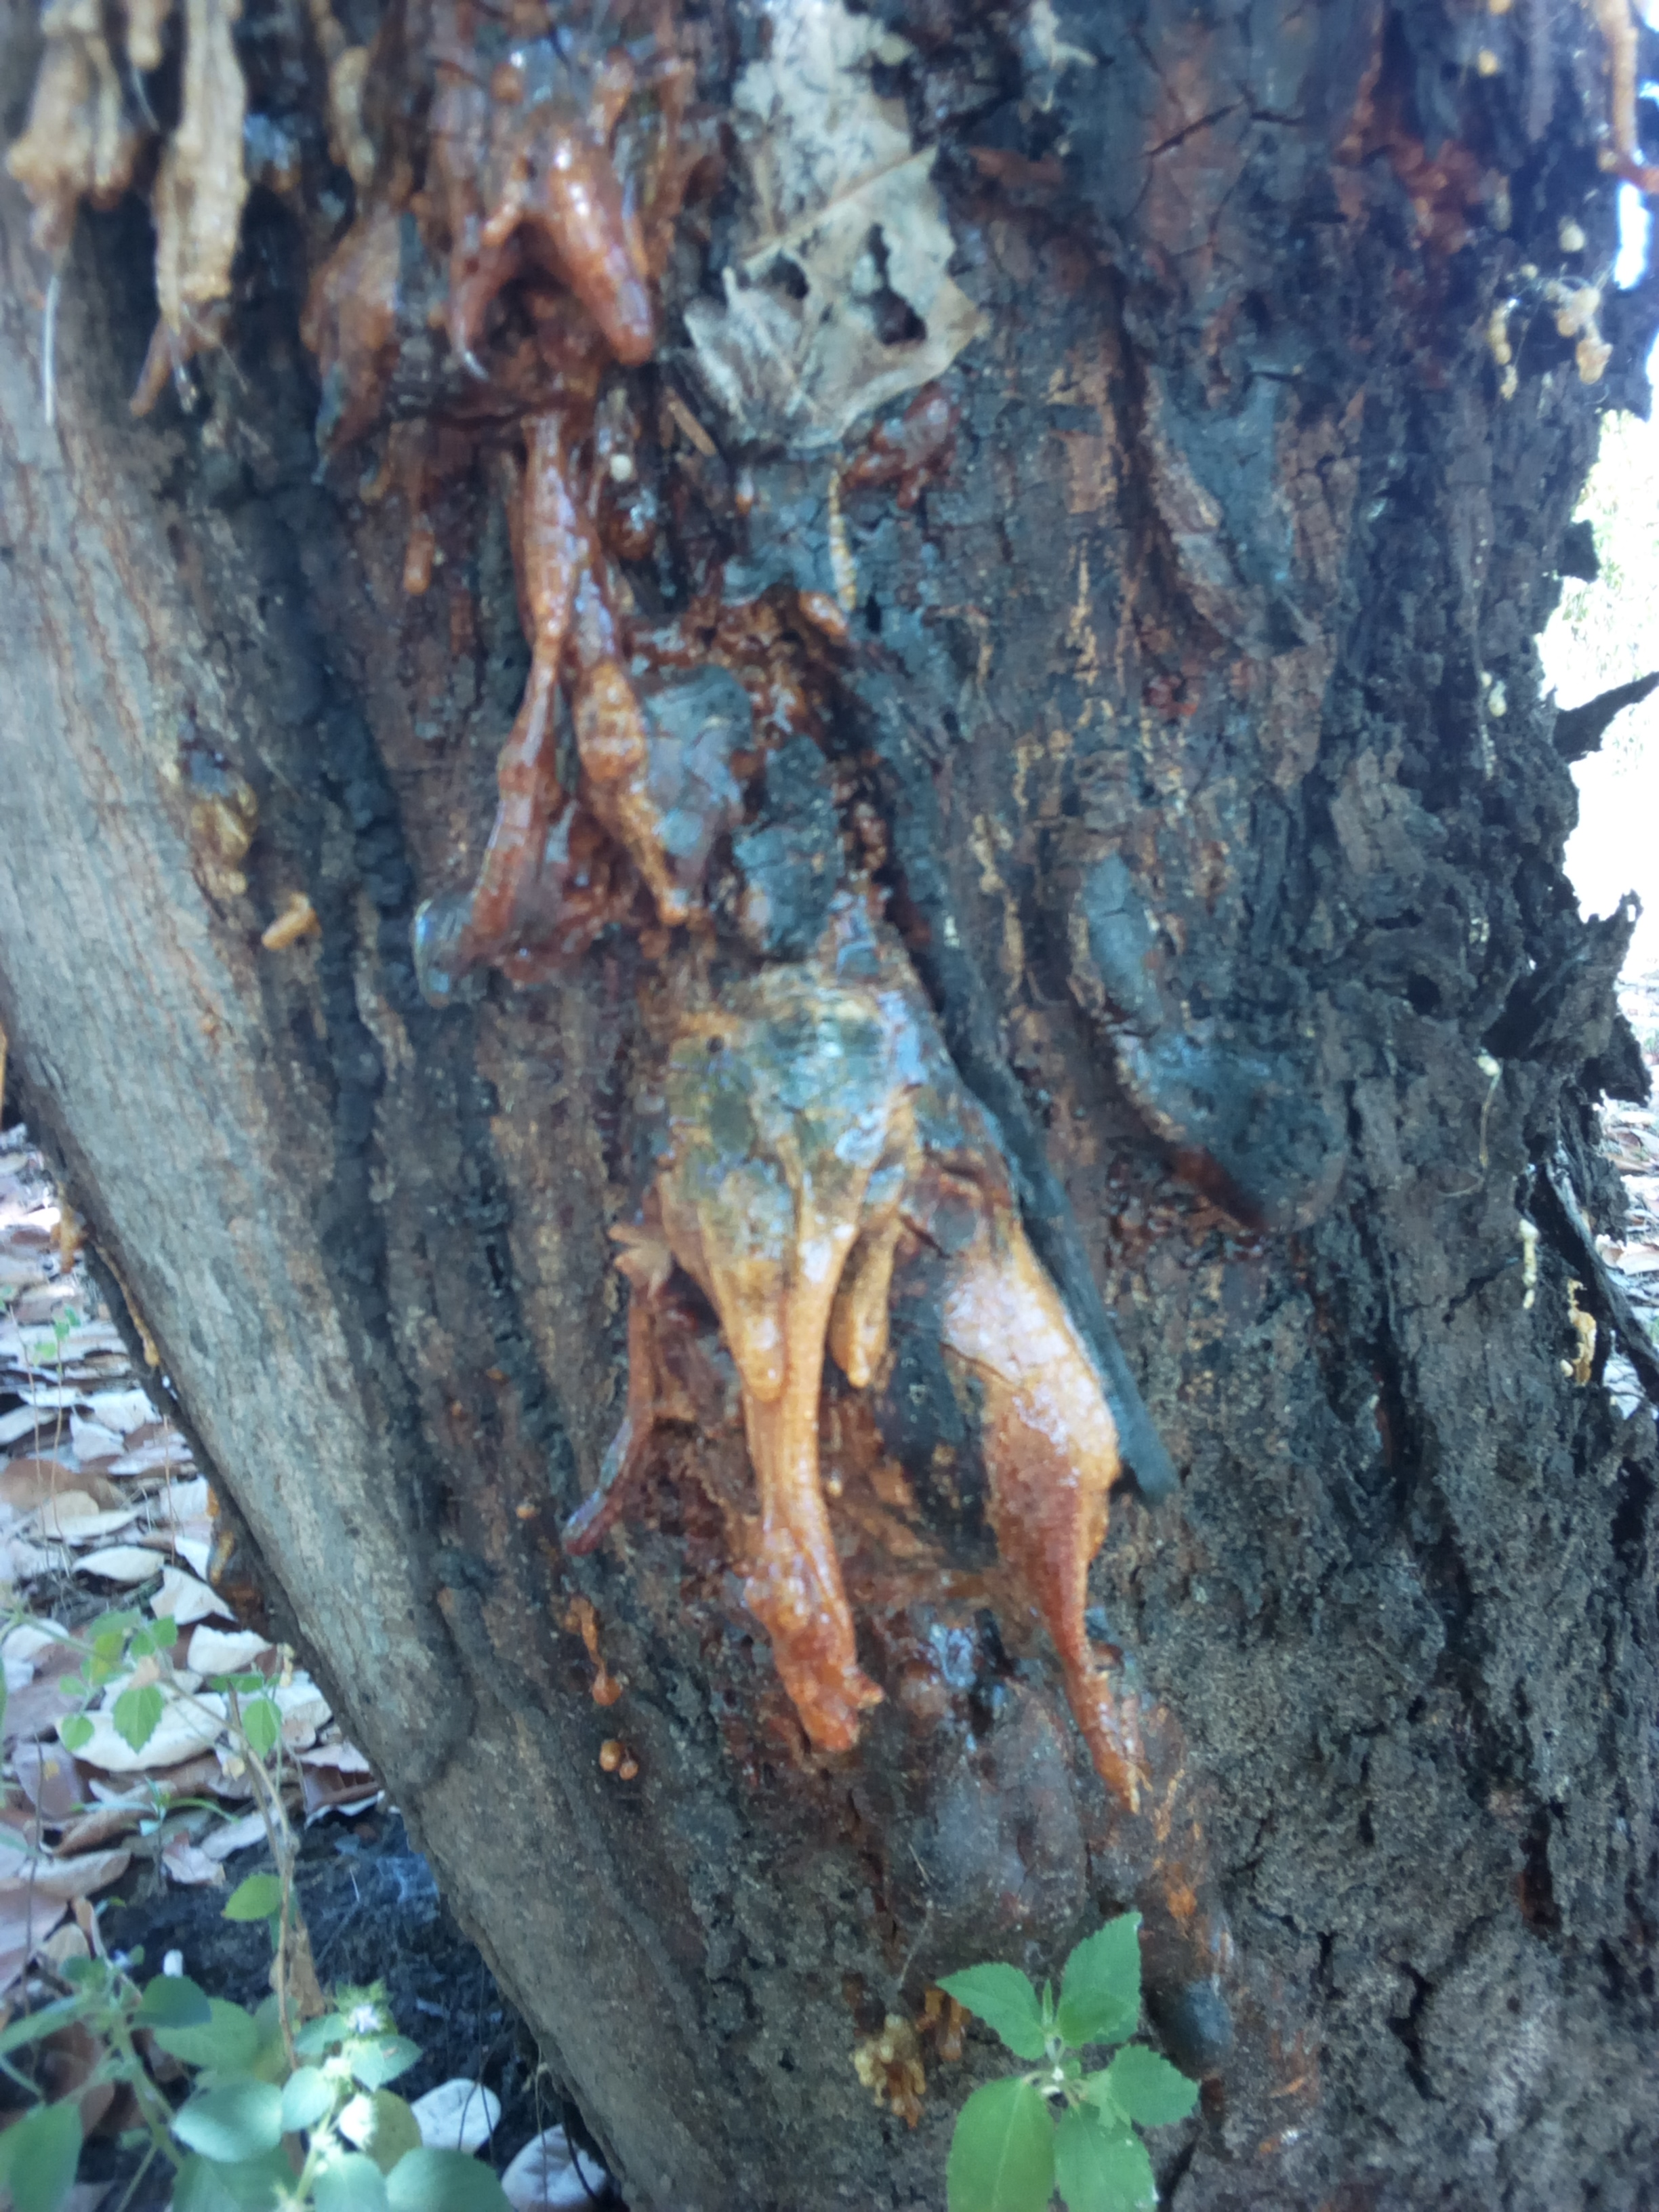Apate terebrans: (94, 260, 1419, 1858)
